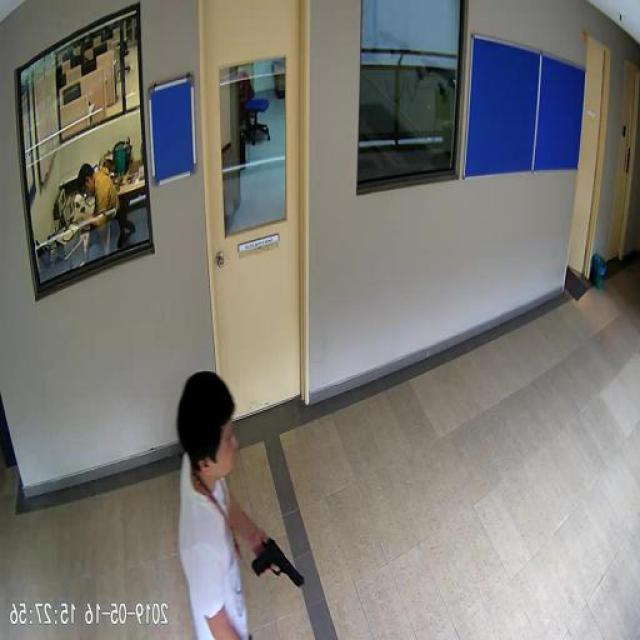weapon: (252, 535, 307, 590)
